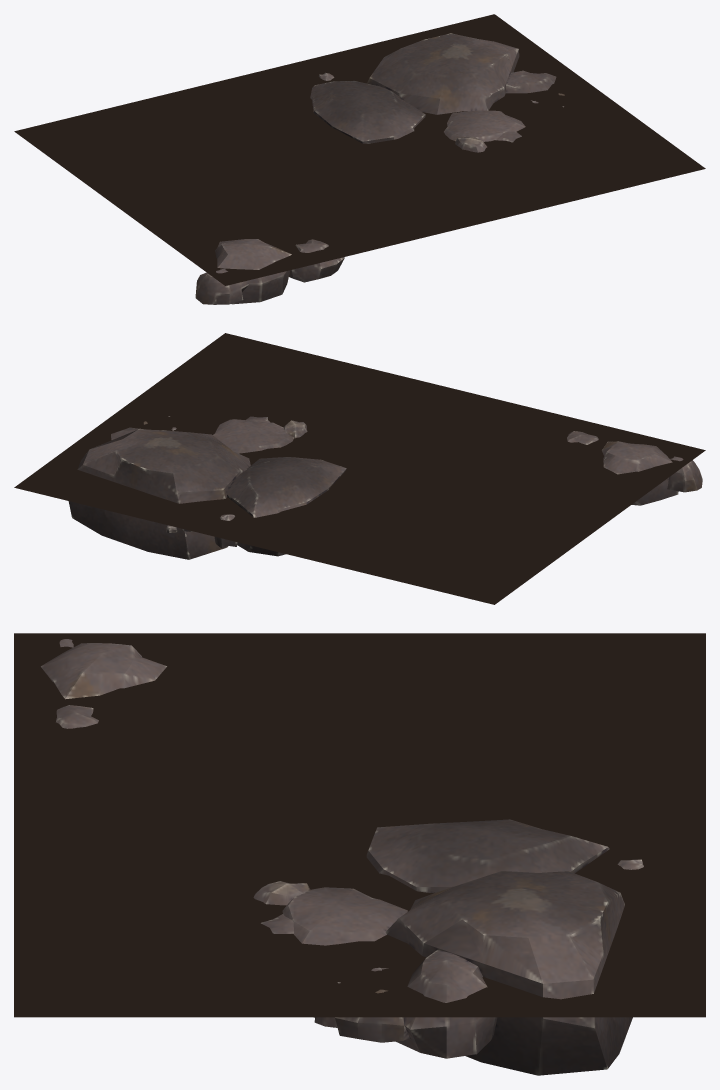
The picture shows the model from 3 angles, top to bottom: view 1: azimuth 30°, elevation 25°; view 2: azimuth 150°, elevation 25°; view 3: azimuth 270°, elevation 25°; orthographic projection. The views are drawn at different scales.
Visible parts, largest first — view 1: GroundShade, Stones; view 2: GroundShade, Stones; view 3: GroundShade, Stones.
Boxes of the visible parts, x1=… form: GroundShade: x1=14, y1=14, x2=705, y2=285; Stones: x1=195, y1=33, x2=564, y2=304; GroundShade: x1=14, y1=333, x2=705, y2=604; Stones: x1=68, y1=416, x2=702, y2=559; GroundShade: x1=14, y1=633, x2=705, y2=1017; Stones: x1=41, y1=639, x2=643, y2=1075.
Size of the model in its own units: 36.58 by 5.77 by 27.26.
2 materials, 2 textured.
